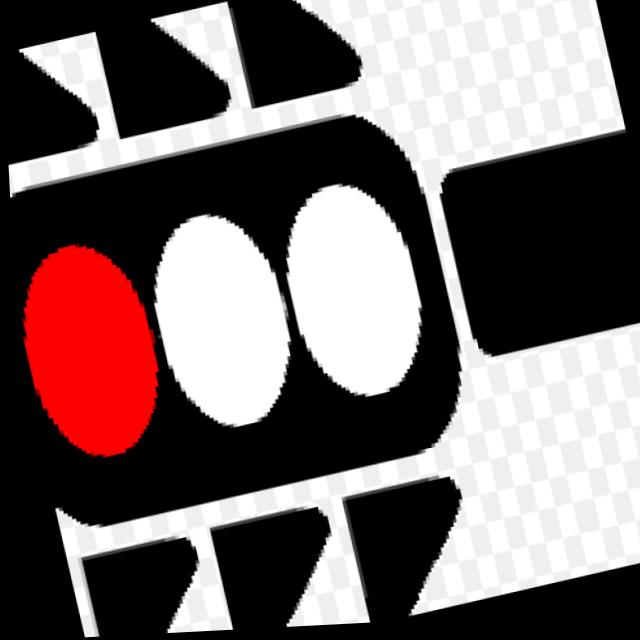red_light: (9, 207, 197, 483)
